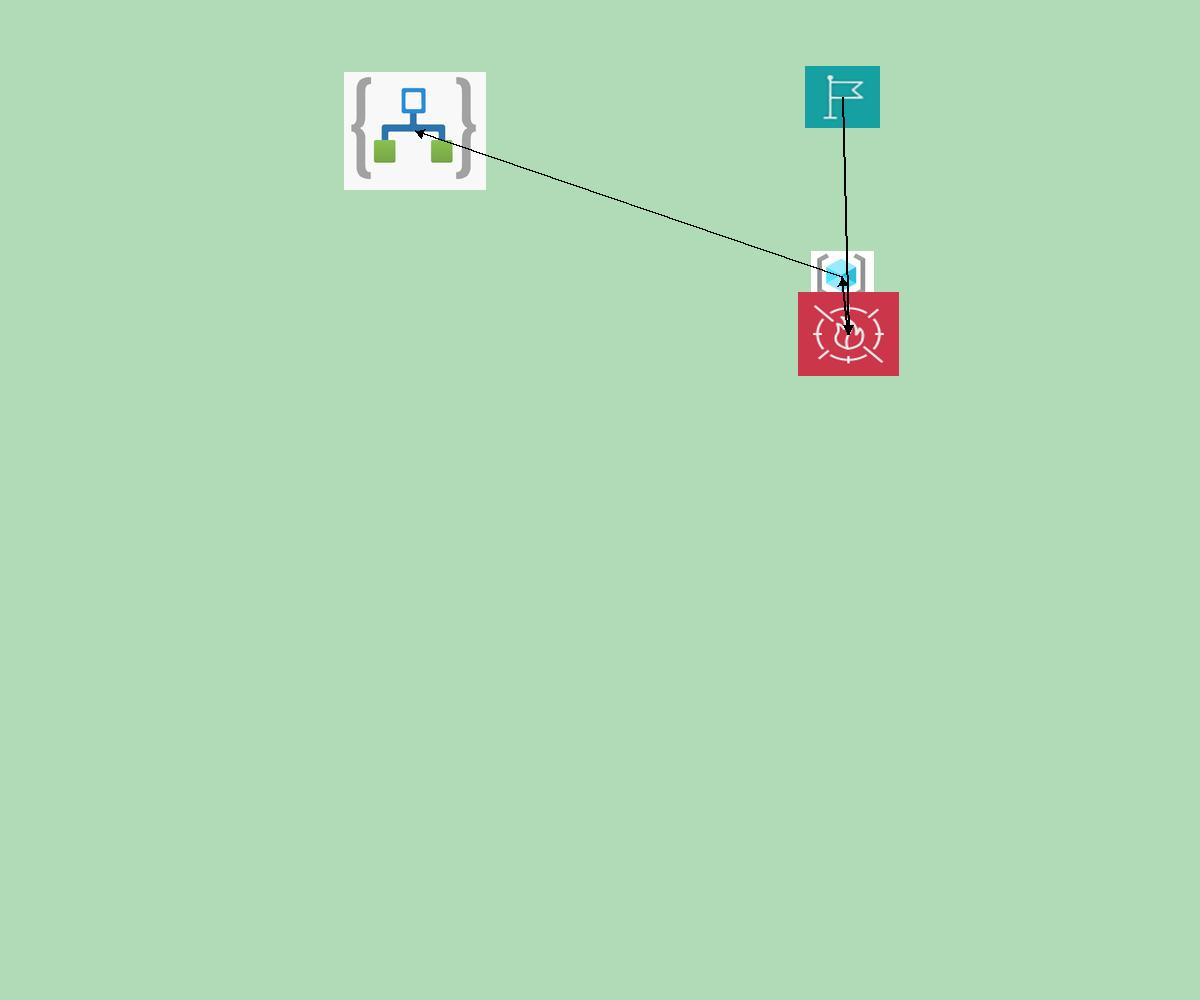AWS-Region: (805, 66, 880, 128)
AWS-WAF: (798, 292, 899, 376)
Azure_integration-204-Logic-Apps: (344, 72, 486, 190)
Azure_resource_group: (811, 251, 874, 303)
